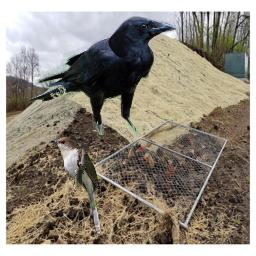Crow: (28, 16, 178, 135)
Cuckoo: (48, 136, 101, 235)
